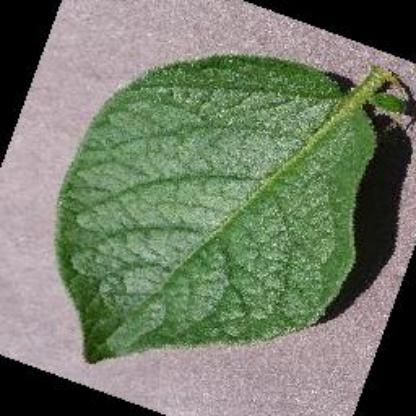Healthy-plant: (54, 53, 404, 361)
